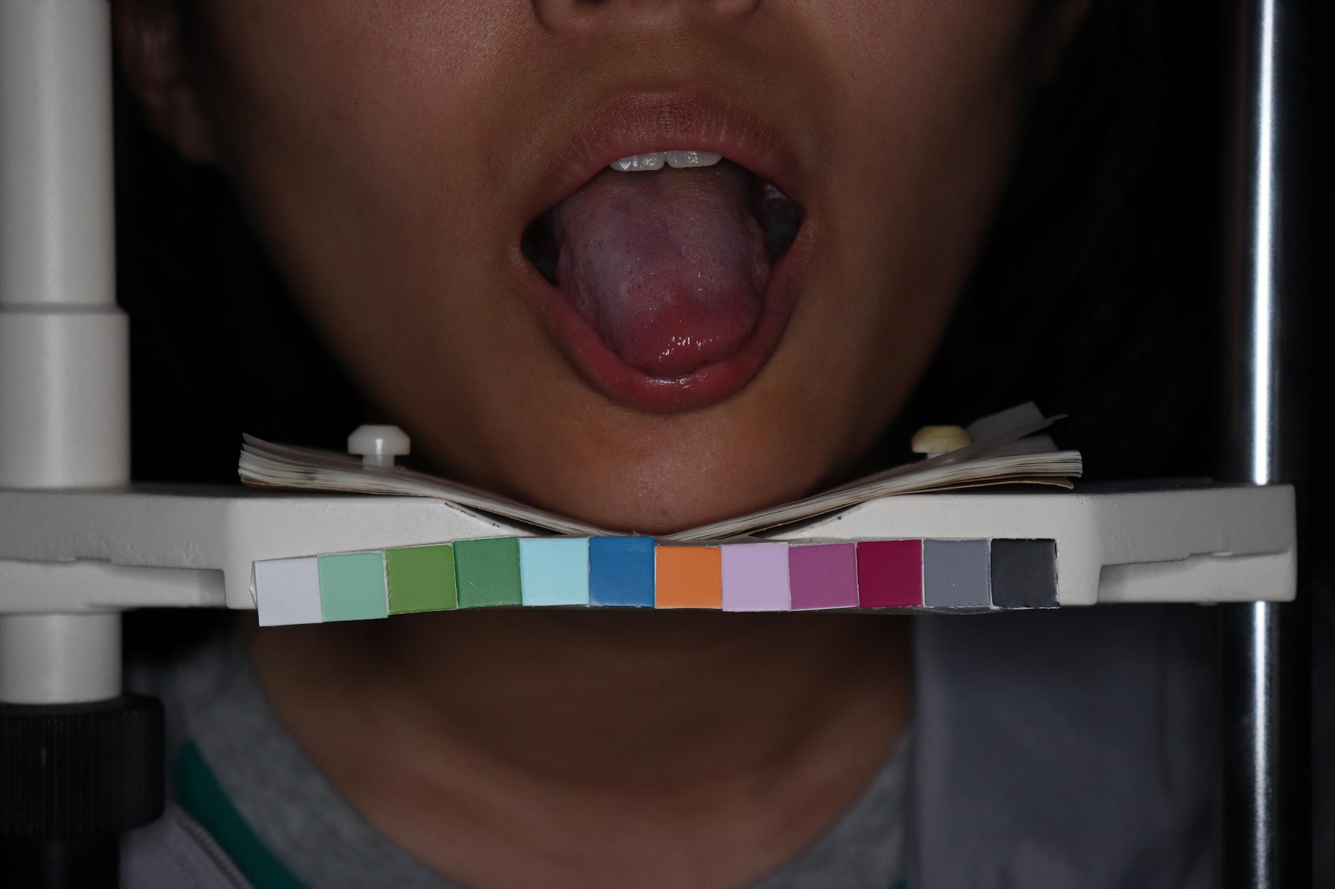baitaishe: (556, 172, 771, 375)
hongshe: (556, 171, 771, 374)
